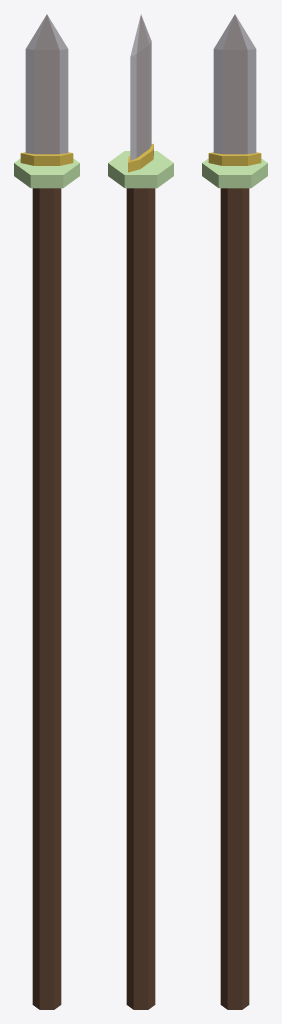
The model's file is lowpolyspear.fbx.
3 renders of one model, left to right at view 1: azimuth 90°, elevation 25°; view 2: azimuth 150°, elevation 25°; view 3: azimuth 270°, elevation 25°, orthographic.
Visible parts, largest first — view 1: Cylinder; view 2: Cylinder; view 3: Cylinder.
Part boxes in pixels (x1,y1,x2,y2): Cylinder: (14,14,79,1009); Cylinder: (108,14,173,1009); Cylinder: (202,14,267,1009).
Bounding box in the file's own units: 173 × 3318 × 200.
